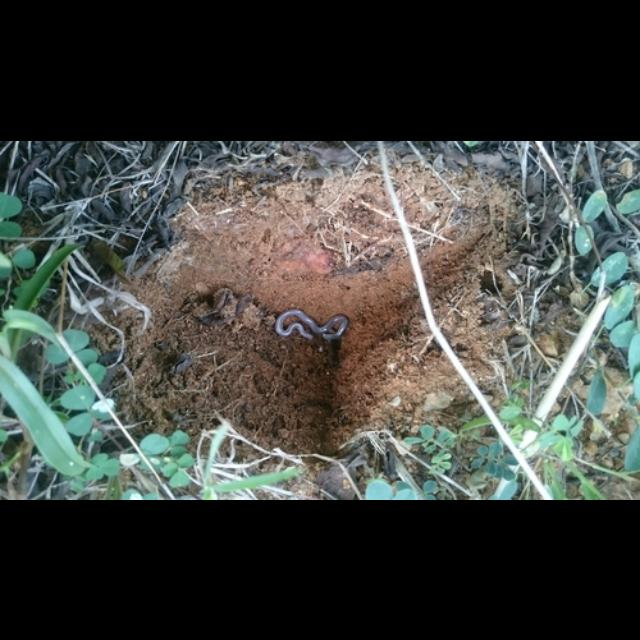snake: (274, 303, 356, 345)
